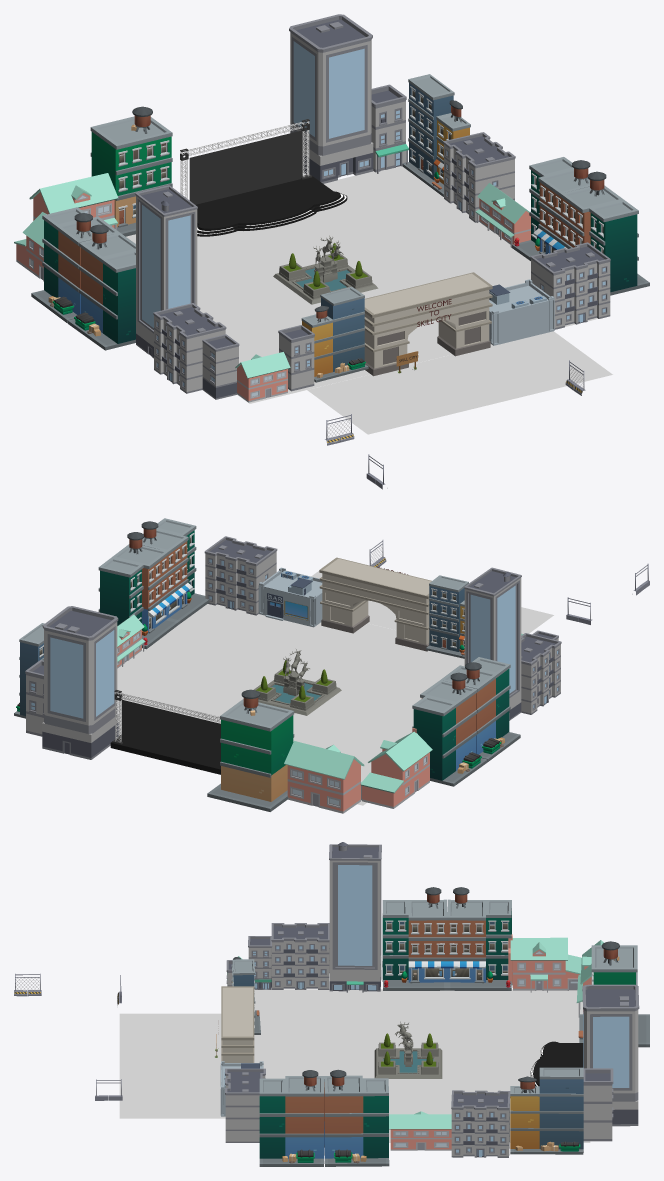
Rendered from skillCityMap2.glb.
3 renders of one model, top to bottom at view 1: azimuth 30°, elevation 25°; view 2: azimuth 150°, elevation 25°; view 3: azimuth 270°, elevation 25°, orthographic. The views are drawn at different scales.
Visible parts, largest first — view 1: Plane, Plane.007, stage.001, skyscraperA, SM_Archway:SM_Archway1, skyscraperD, building_G, building_D, building_G.003, large_buildingA, building_H.001, building_G.001 (+13 smaller); view 2: Plane, skyscraperA, building_D, SM_Archway:SM_Archway1, stage.001, skyscraperD, building_G.002, building_G.001, house_type12.003, large_buildingA, building_G, house_type08 (+9 smaller); view 3: Plane, Plane.007, skyscraperD, skyscraperA, building_G, building_H.001, building_G.002, building_G.001, building_G.003, large_buildingA.001, large_buildingA.002, house_type08 (+11 smaller).
Part boxes in pixels (box(x1,y1,x2,y2)): Plane: box(126, 166, 597, 403); Plane.007: box(307, 331, 612, 434); stage.001: box(180, 119, 347, 236); skyscraperA: box(289, 14, 373, 183); SM_Archway:SM_Archway1: box(364, 272, 492, 376); skyscraperD: box(135, 185, 197, 358); building_G: box(68, 224, 135, 350); building_D: box(90, 106, 172, 236); building_G.003: box(556, 171, 649, 295); large_buildingA: box(530, 242, 610, 329); building_H.001: box(402, 74, 470, 196); building_G.001: box(31, 207, 119, 323); Plane: box(117, 604, 464, 805); skyscraperA: box(42, 606, 118, 759); building_D: box(207, 689, 294, 811); SM_Archway:SM_Archway1: box(319, 557, 431, 651); stage.001: box(110, 690, 220, 774); skyscraperD: box(464, 567, 521, 720); building_G.002: box(98, 532, 178, 649); building_G.001: box(412, 672, 487, 786); house_type12.003: box(284, 741, 364, 813); large_buildingA: box(204, 536, 277, 615); building_G: box(441, 657, 520, 761); house_type08: box(360, 728, 432, 808); Plane: box(254, 989, 590, 1142); Plane.007: box(119, 1013, 225, 1118); skyscraperD: box(329, 842, 381, 992); skyscraperA: box(582, 984, 639, 1126); building_G: box(382, 887, 447, 990); building_H.001: box(510, 1067, 583, 1154); building_G.002: box(324, 1069, 389, 1166); building_G.001: box(447, 887, 511, 990); building_G.003: box(259, 1070, 323, 1166); large_buildingA.001: box(451, 1090, 510, 1157); large_buildingA.002: box(271, 923, 329, 989); house_type08: box(508, 934, 581, 992).
Size of the model in its own units: 66.09 by 21.09 by 87.37.
Materials: 62 (5 with a texture image).
